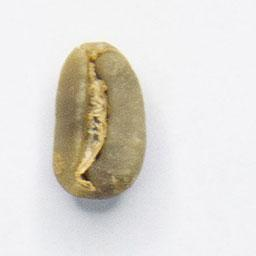longberry: (50, 37, 150, 201)
